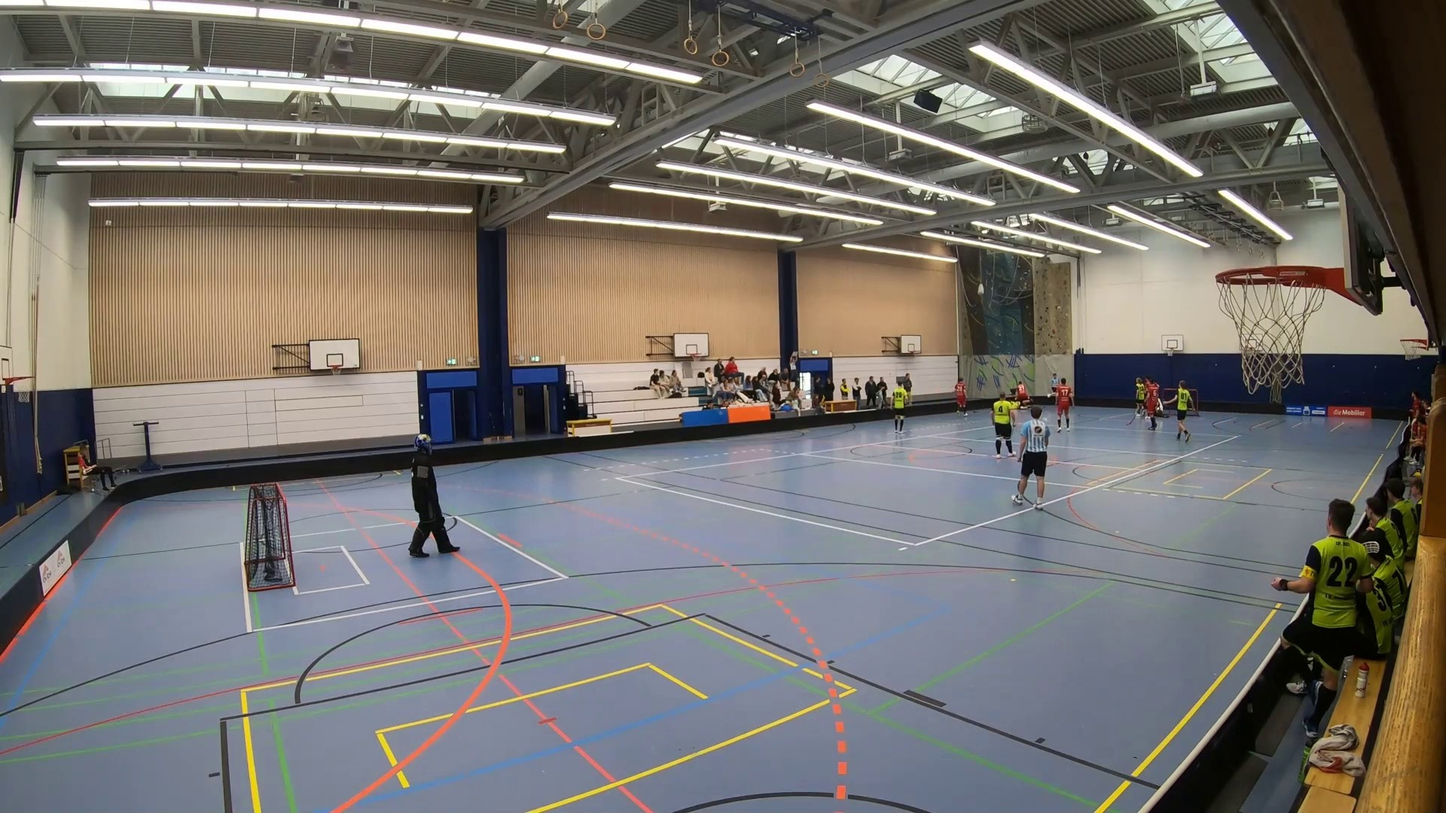Schiri: (1012, 402, 1061, 519), (1048, 370, 1063, 400)
goalkeeper: (402, 426, 462, 568), (1155, 397, 1170, 419)
player: (987, 388, 1017, 459), (888, 380, 911, 443), (1177, 381, 1195, 451), (1053, 377, 1076, 430), (1145, 381, 1162, 435), (951, 377, 971, 419), (1130, 374, 1145, 418), (1015, 380, 1031, 404), (1006, 400, 1030, 411), (1144, 375, 1152, 388)
